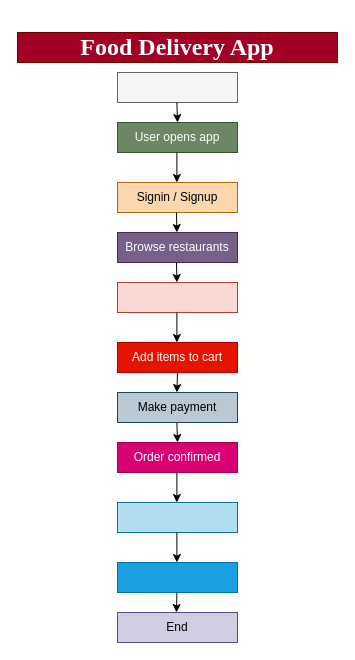
This 355x660 diagram has some shape labels left out. Here are the shapes that lost their labels. From the top down, the box of each, then its label:
(116, 72, 238, 102): Start
(116, 282, 238, 312): Select food category
(116, 502, 238, 532): Restaurant prepares food
(116, 562, 238, 592): Food delivered
